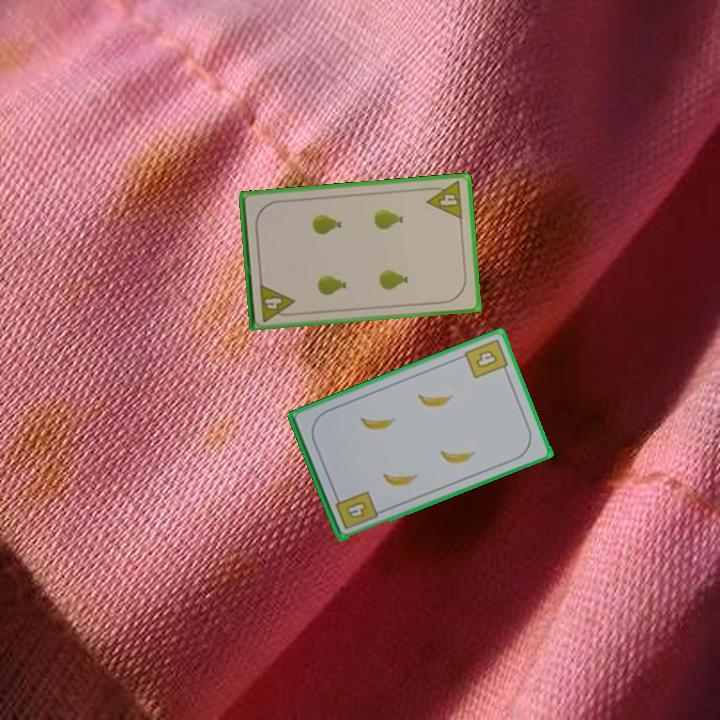4b: (461, 335, 512, 381), (331, 487, 381, 532)
4p: (423, 178, 466, 222), (256, 280, 298, 324)
